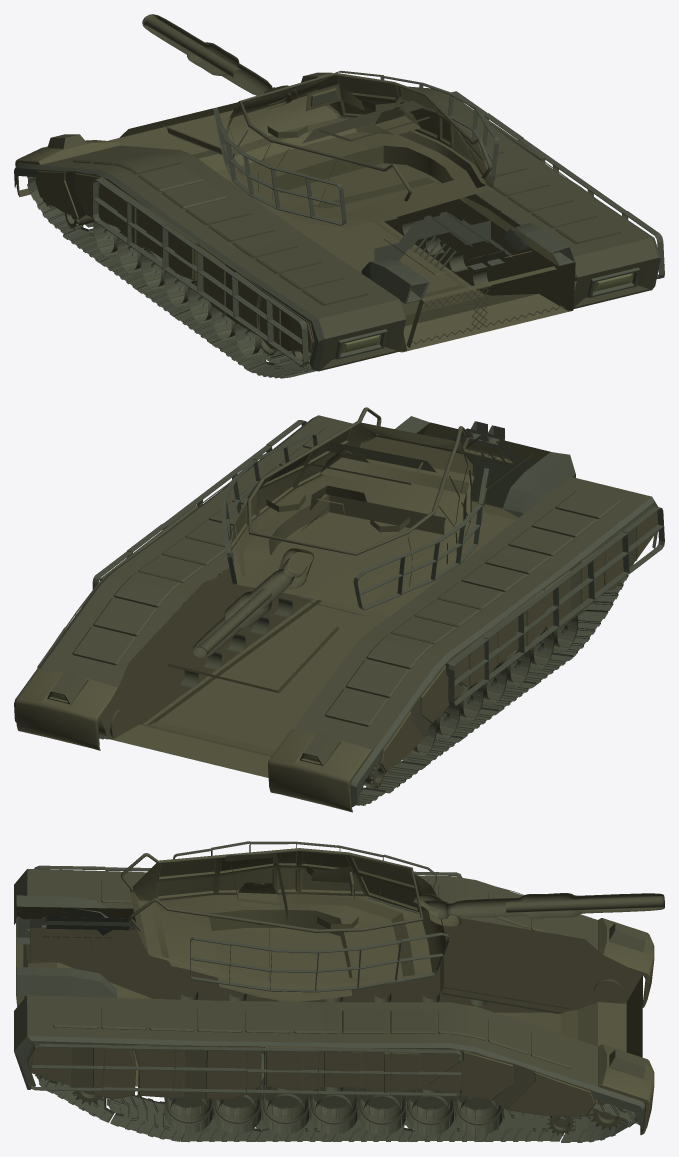
The model's file is tank.glb.
3 views of the same model, one above another, from view 1: azimuth 30°, elevation 25°; view 2: azimuth 150°, elevation 25°; view 3: azimuth 270°, elevation 25° (orthographic). The views are drawn at different scales.
Size of the model in its own units: 0.6581 by 0.329 by 1.
